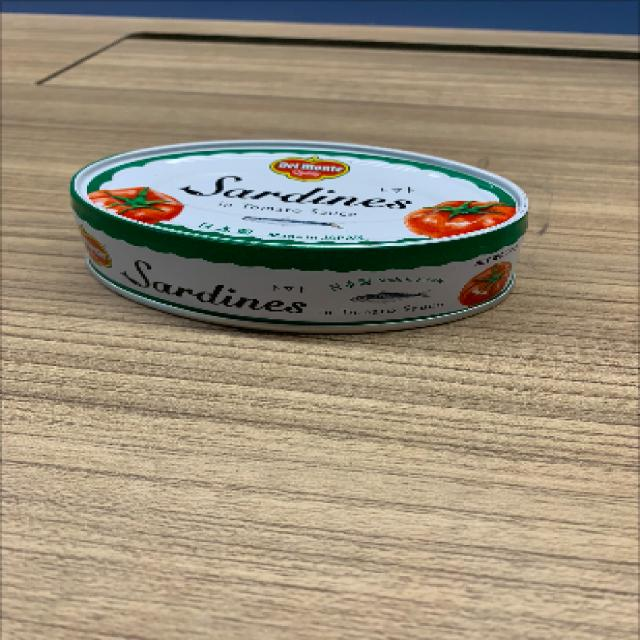object_name: (77, 148, 521, 322)
